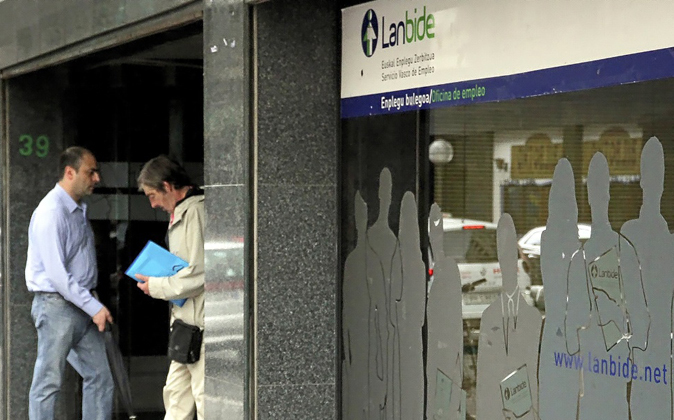person: (31, 141, 113, 303), (133, 164, 207, 315)
